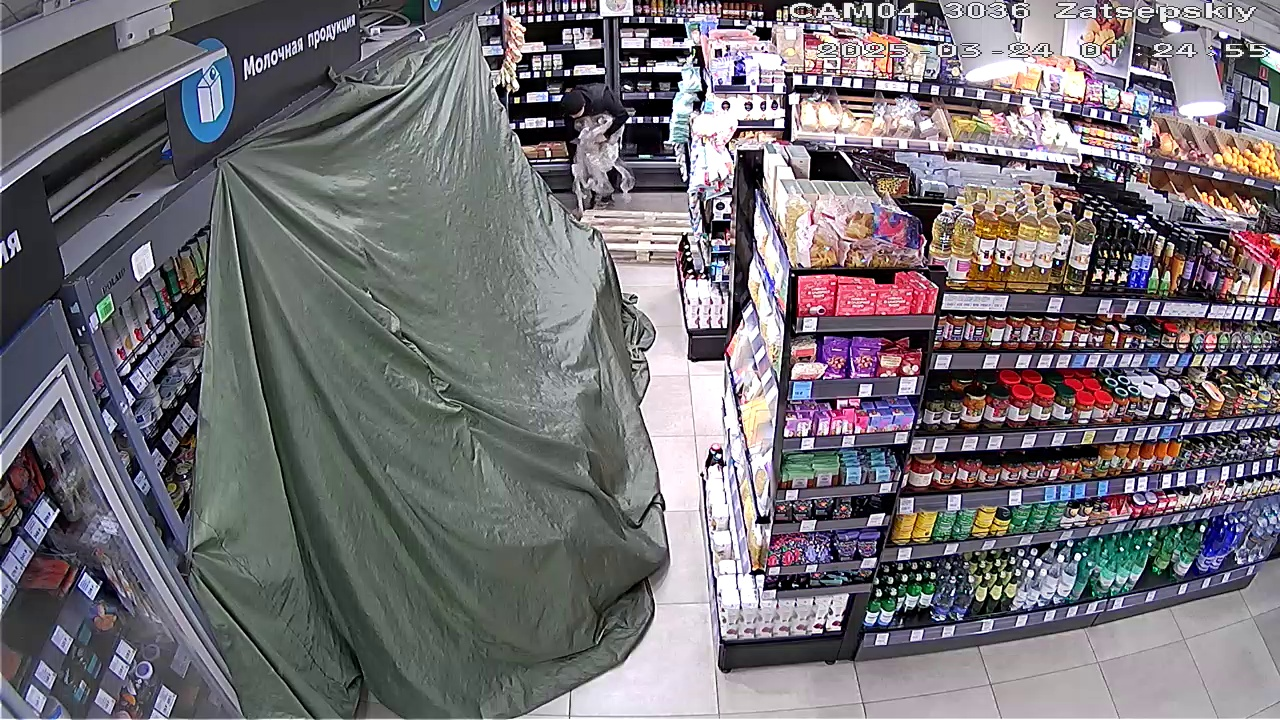Human: (550, 73, 639, 192)
dome: (188, 32, 664, 708)
pallet: (574, 201, 713, 281)
